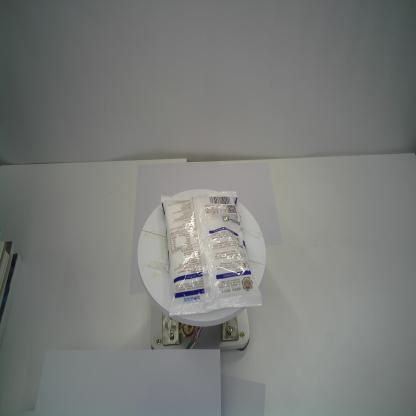Seasoner: (160, 188, 264, 317)
